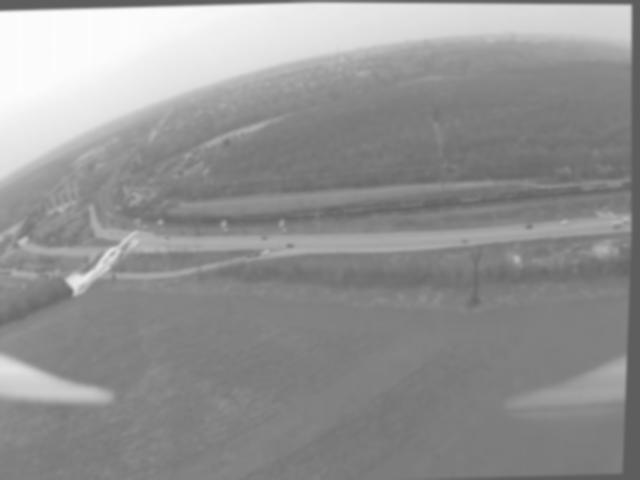hedef: (59, 214, 154, 311)
